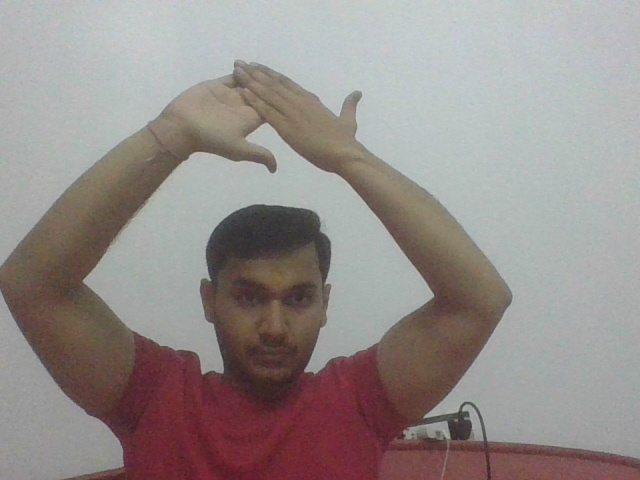H: (166, 57, 368, 180)
